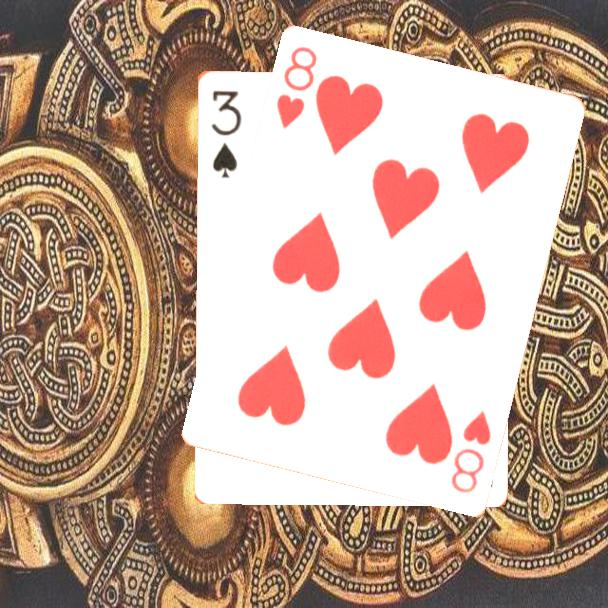h08: (273, 43, 321, 132), (448, 407, 494, 497)
s03: (207, 86, 244, 181)
